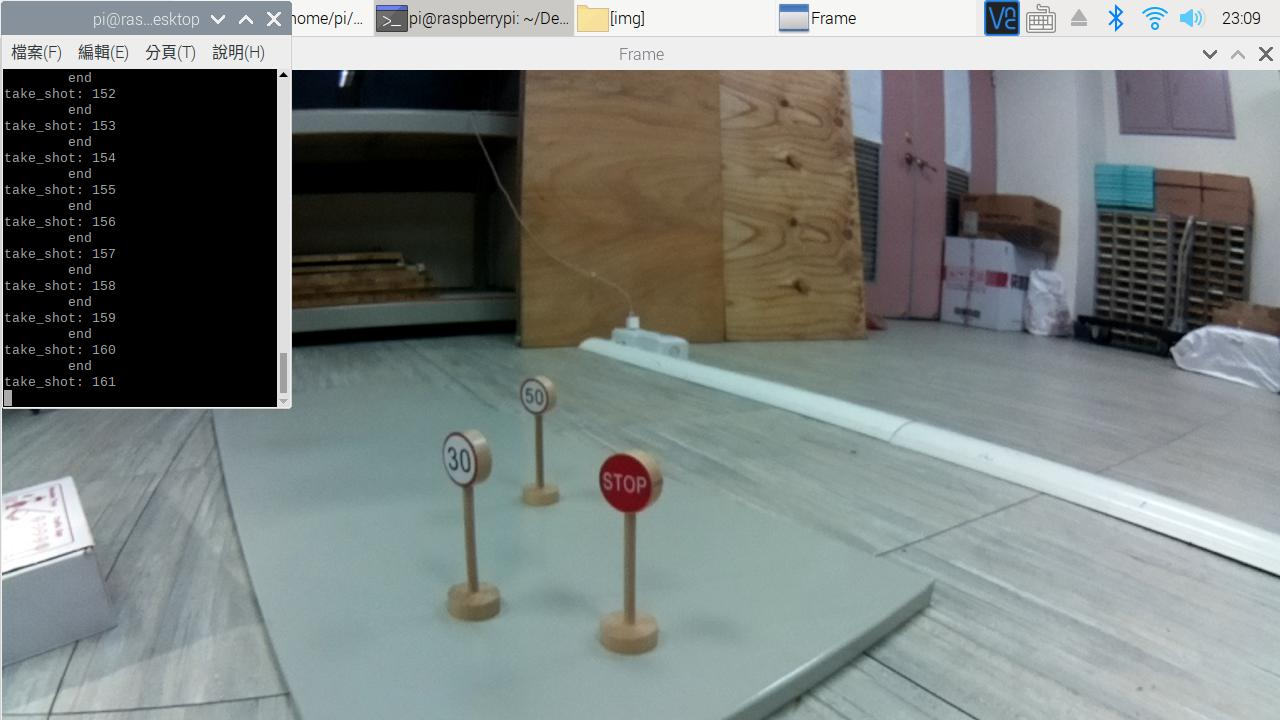Speed30: (431, 424, 496, 498)
Speed50: (516, 372, 572, 425)
Stop: (590, 442, 670, 524)
